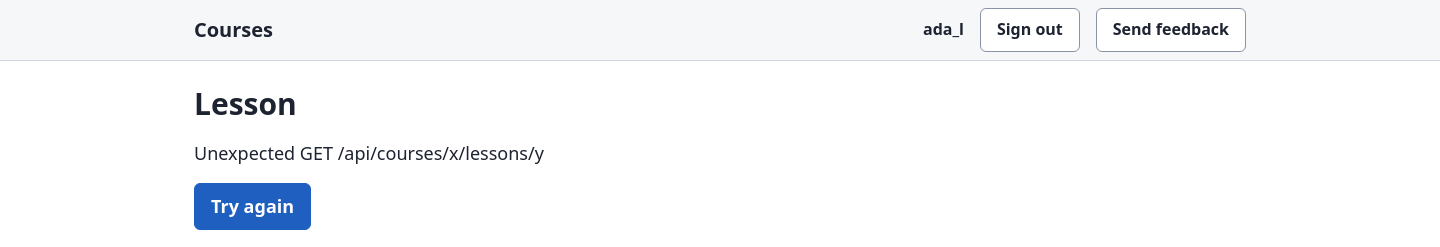
Test: signs out: visitor header, back to the course list, focus on the h1
Step 1. Click the button "Sign out" → (1030, 30), box top-left (980, 8), bottom-right (1080, 52)
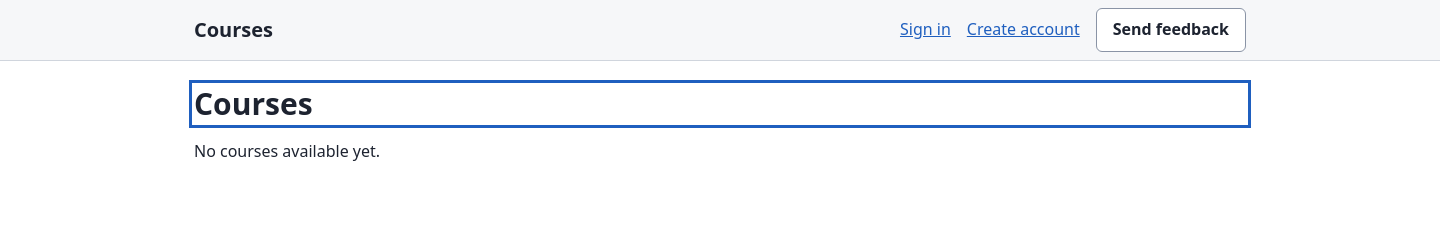
Expected: the link "Sign in" is shown, top-left (900, 18), bottom-right (951, 40)
Expected: the text "ada_l" is gone
